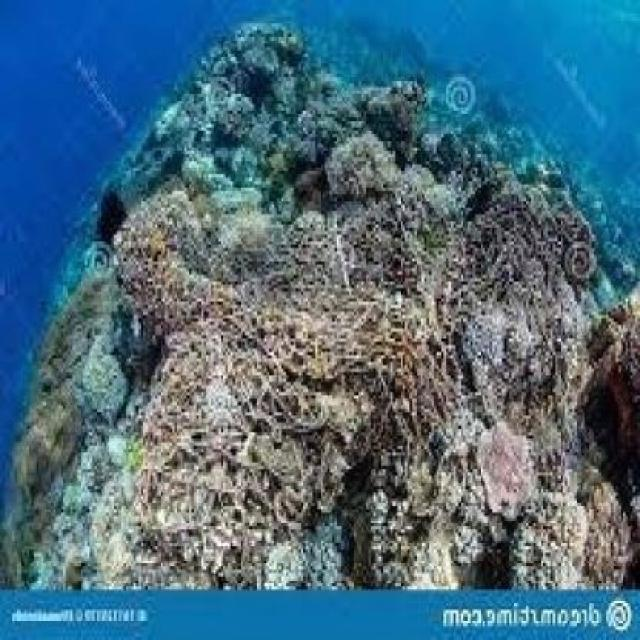net: (126, 204, 606, 533)
